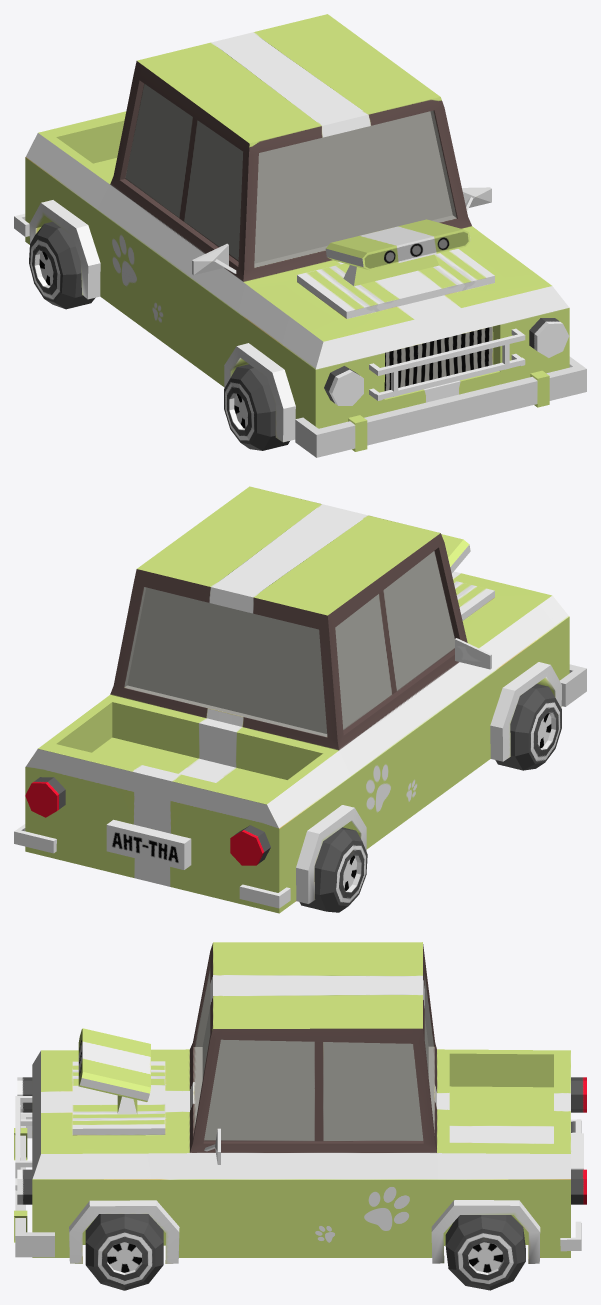
The model's file is car20.fbx.
3 renders of one model, top to bottom at view 1: azimuth 30°, elevation 25°; view 2: azimuth 150°, elevation 25°; view 3: azimuth 270°, elevation 25°, orthographic. The views are drawn at different scales.
Parts seen in each view (by area): view 1: car, front_bumper, front_light_bars, rear_wheel_RGH1, front_wheel_RGH, grill_goard; view 2: car, rear_wheel_RGH1, front_wheel_RGH, rear_bumper__RGH, front_bumper, rear_bumper_LEF, front_light_bars; view 3: car, front_wheel_LEF, rear_wheel_LEF, front_light_bars, front_bumper, grill_goard.
Part boxes in pixels (x1=…): car: x1=25, y1=14, x2=569, y2=442; front_bumper: x1=295, y1=356, x2=586, y2=457; front_light_bars: x1=325, y1=219, x2=470, y2=286; rear_wheel_RGH1: x1=29, y1=221, x2=95, y2=309; front_wheel_RGH: x1=224, y1=364, x2=289, y2=450; grill_goard: x1=369, y1=328, x2=525, y2=400; car: x1=25, y1=486, x2=569, y2=913; rear_wheel_RGH1: x1=299, y1=827, x2=367, y2=912; front_wheel_RGH: x1=495, y1=684, x2=561, y2=770; rear_bumper__RGH: x1=239, y1=884, x2=290, y2=908; front_bumper: x1=560, y1=664, x2=586, y2=706; rear_bumper_LEF: x1=14, y1=824, x2=56, y2=853; front_light_bars: x1=441, y1=534, x2=470, y2=573; car: x1=17, y1=942, x2=586, y2=1263; front_wheel_LEF: x1=85, y1=1214, x2=163, y2=1290; rear_wheel_LEF: x1=445, y1=1215, x2=525, y2=1290; front_light_bars: x1=78, y1=1028, x2=150, y2=1114; front_bumper: x1=14, y1=1113, x2=54, y2=1257; grill_goard: x1=15, y1=1096, x2=32, y2=1190.
Bounding box in the file's own units: 2.34 × 1.88 × 4.06.
